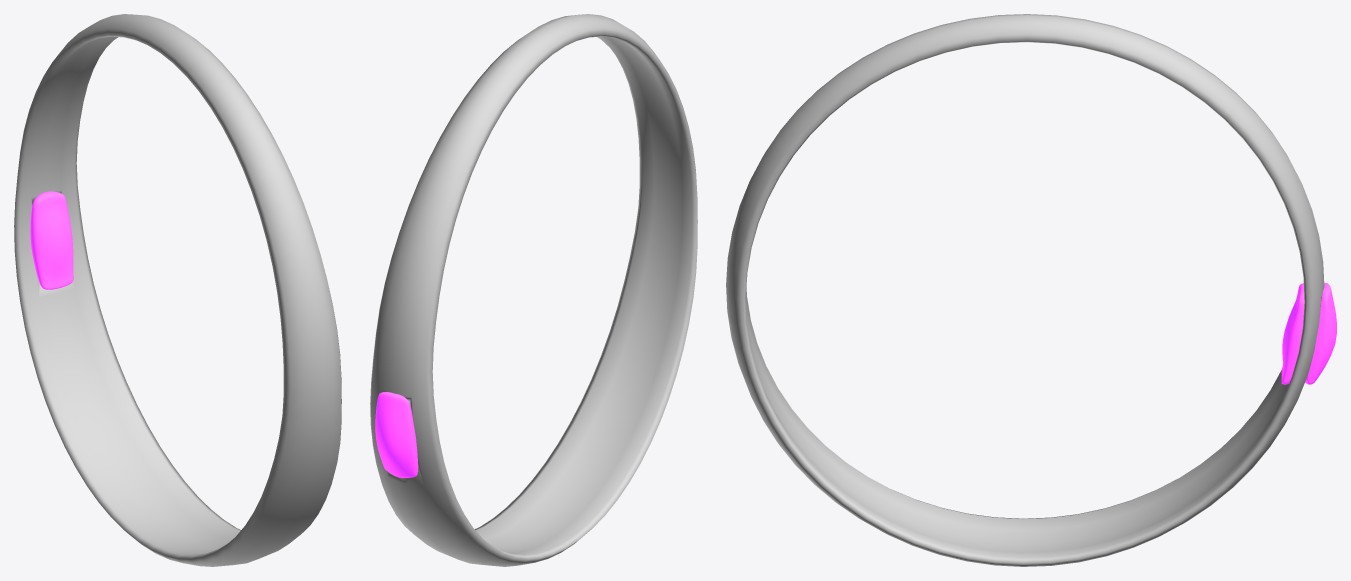
File: ring22.gltf
The picture shows the model from 3 angles, left to right: view 1: azimuth 30°, elevation 25°; view 2: azimuth 150°, elevation 25°; view 3: azimuth 270°, elevation 25°; orthographic projection. The views are drawn at different scales.
Parts seen in each view (by area): view 1: ring_cylinder, ring_cut_quad; view 2: ring_cylinder, ring_cut_quad; view 3: ring_cylinder, ring_cut_quad.
Part boxes in pixels (x1,y1,x2,y2): ring_cylinder: [14, 14, 341, 566]; ring_cut_quad: [30, 191, 73, 289]; ring_cylinder: [370, 14, 697, 566]; ring_cut_quad: [375, 392, 418, 477]; ring_cylinder: [726, 14, 1324, 566]; ring_cut_quad: [1281, 283, 1336, 384].
Bounding box in the file's own units: 9.78 × 55.01 × 56.24.
